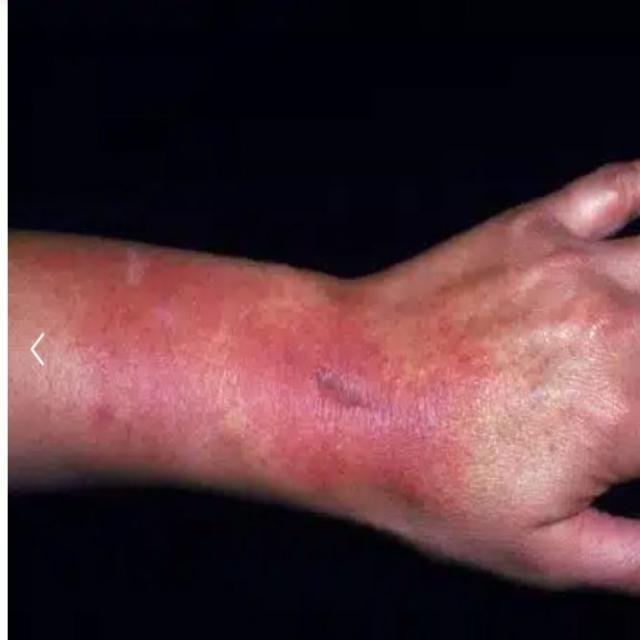Eczema: (10, 232, 485, 511)
